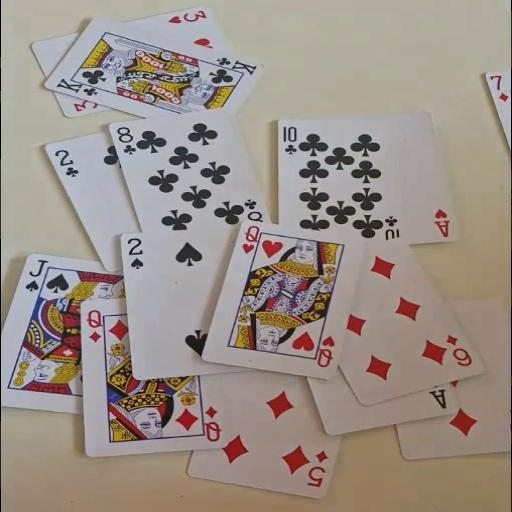10: (314, 333, 336, 368), (281, 124, 299, 156)
2: (51, 147, 80, 178), (124, 236, 145, 270)
3: (165, 8, 208, 24)
5: (304, 448, 331, 489)
6: (443, 332, 474, 368)
7: (486, 73, 510, 102)
8: (114, 124, 136, 156)
A: (432, 206, 452, 238)
J: (22, 258, 49, 292)
K: (52, 75, 103, 97), (214, 55, 258, 75)
Q: (200, 404, 222, 443), (238, 224, 262, 256), (314, 334, 336, 368), (84, 307, 104, 344)
